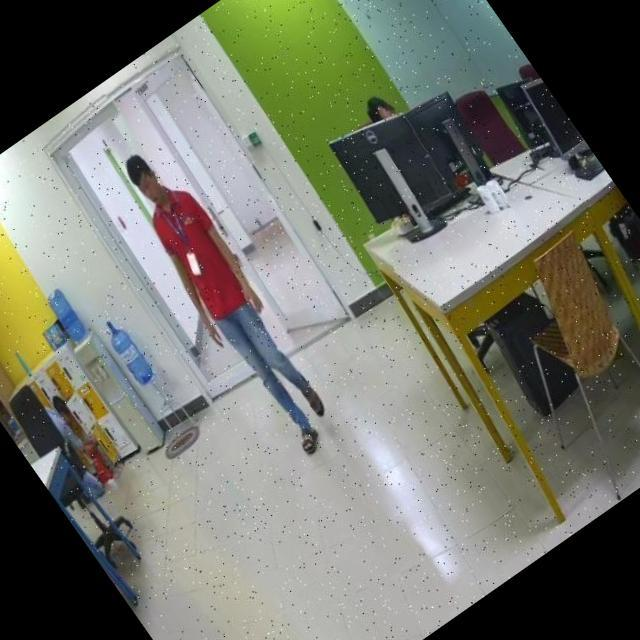person: (99, 132, 362, 467)
